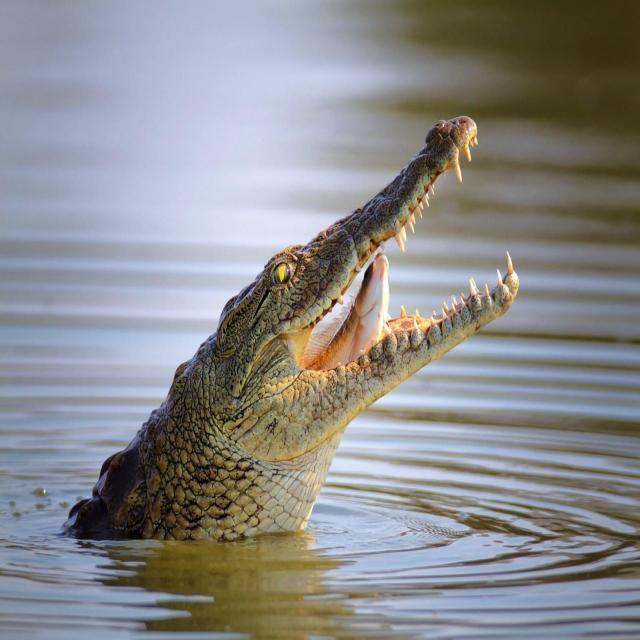crocodile: (65, 114, 518, 540)
